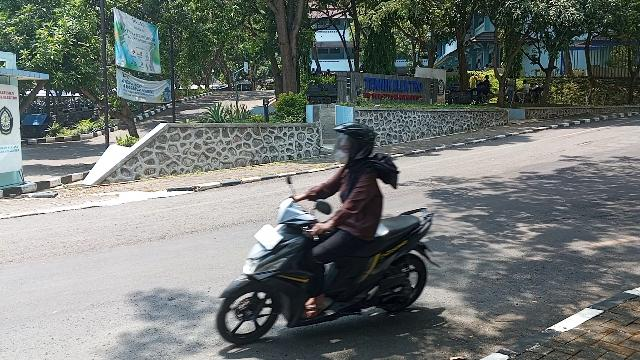helm: (336, 125, 377, 166)
motor: (220, 201, 443, 350)
